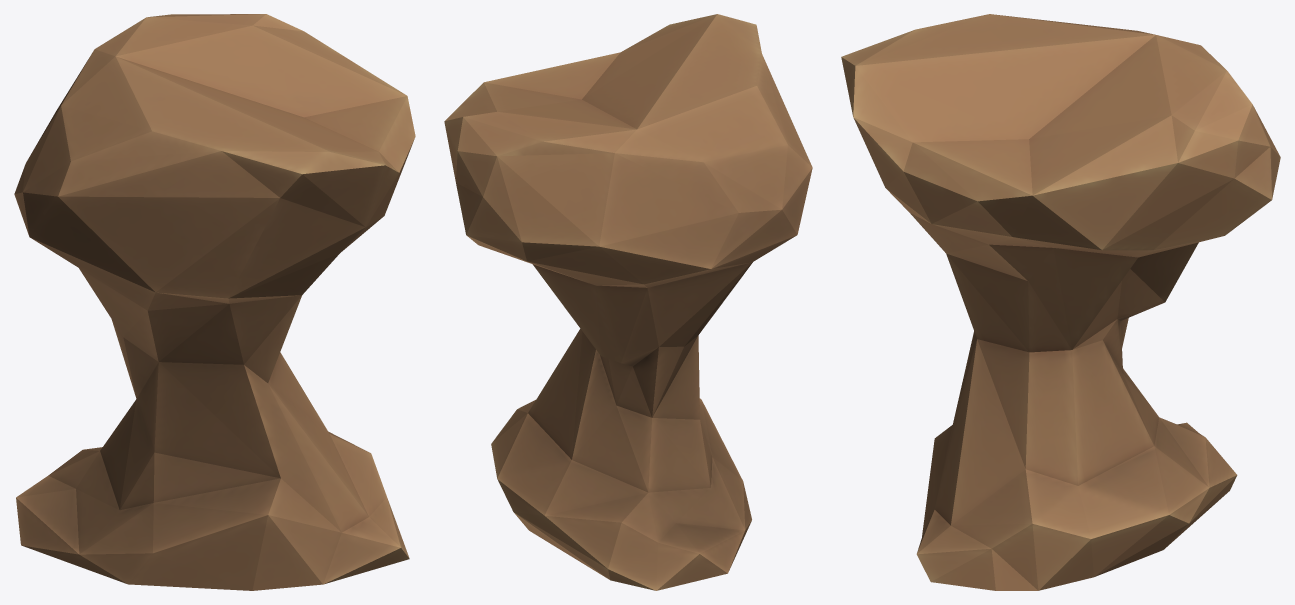
File: Mountain rock_15.fbx
The picture shows the model from 3 angles, left to right: view 1: azimuth 30°, elevation 25°; view 2: azimuth 150°, elevation 25°; view 3: azimuth 270°, elevation 25°; orthographic projection. The views are drawn at different scales.
Visible parts, largest first — view 1: Mountain rock_15; view 2: Mountain rock_15; view 3: Mountain rock_15.
Boxes of the visible parts, left/top/right/bottom form: Mountain rock_15: left=14, top=14, right=415, bottom=590; Mountain rock_15: left=444, top=14, right=812, bottom=590; Mountain rock_15: left=841, top=14, right=1280, bottom=590.
Size of the model in its own units: 191 by 235 by 203.
